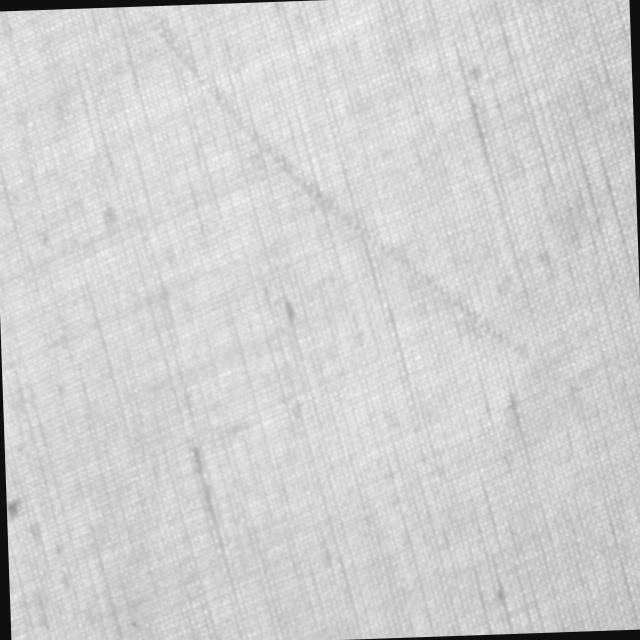objects: (133, 0, 529, 374)
